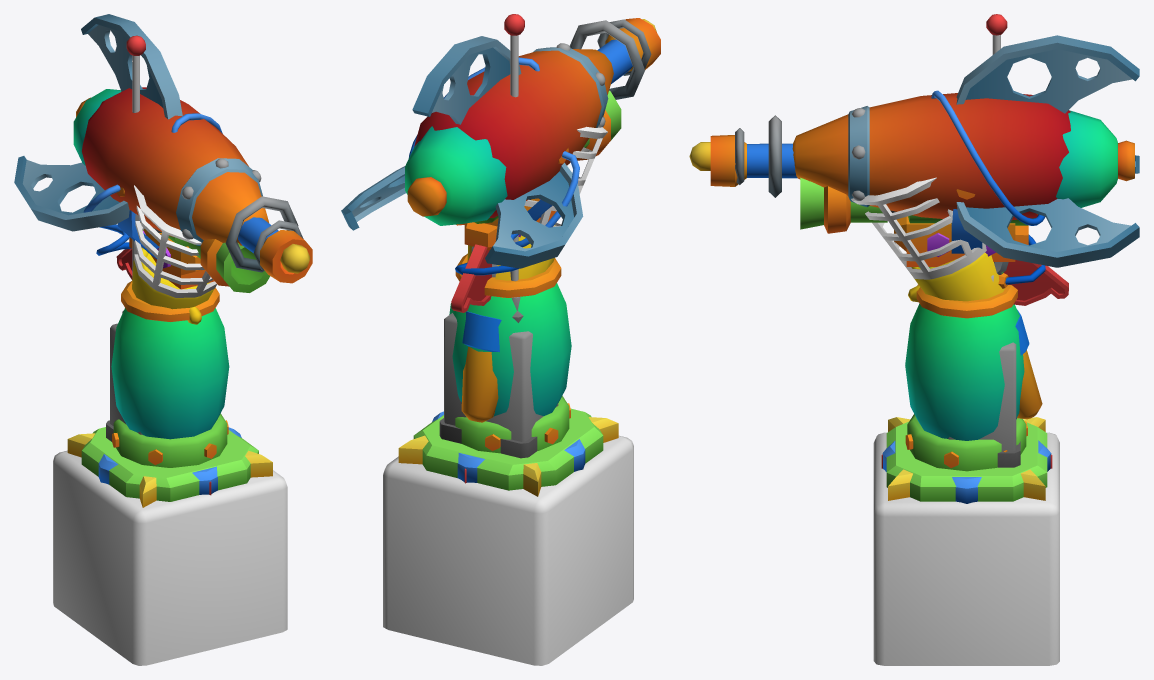
Rendered from buildings.glb.
3 views of the same model, side by side, from view 1: azimuth 30°, elevation 25°; view 2: azimuth 150°, elevation 25°; view 3: azimuth 270°, elevation 25° (orthographic). The views are drawn at different scales.
Visible parts, largest first — view 1: tile, Lasercannon, Base4, Signalbeacon, Shooter, Watergun, Turntable1, Cannon, Base3, Turntable4; view 2: tile, Lasercannon, Signalbeacon, Base4, Watergun, Shooter, Turntable1, Cannon, Base3, Trigger, Turntable4; view 3: Lasercannon, tile, Base4, Watergun, Signalbeacon, Shooter, Cannon, Turntable1, Trigger, Base3, Turntable4.
Part boxes in pixels (x1,y1,x2,y2): tile: [53, 450, 287, 665]; Lasercannon: [14, 14, 310, 273]; Base4: [98, 281, 241, 494]; Signalbeacon: [81, 35, 258, 501]; Shooter: [132, 185, 217, 324]; Watergun: [73, 89, 312, 283]; Turntable1: [112, 413, 228, 467]; Cannon: [129, 222, 270, 292]; Base3: [67, 433, 272, 507]; Turntable4: [83, 184, 159, 258]; tile: [383, 435, 633, 665]; Lasercannon: [341, 19, 656, 268]; Signalbeacon: [413, 14, 603, 490]; Base4: [432, 254, 585, 482]; Watergun: [405, 18, 660, 225]; Shooter: [461, 125, 607, 422]; Turntable1: [455, 396, 570, 453]; Cannon: [456, 90, 621, 250]; Base3: [398, 417, 618, 496]; Trigger: [451, 244, 491, 312]; Turntable4: [455, 148, 579, 277]; Lasercannon: [689, 35, 1139, 274]; tile: [873, 432, 1059, 665]; Base4: [882, 284, 1051, 503]; Watergun: [710, 90, 1134, 225]; Signalbeacon: [886, 14, 1047, 501]; Shooter: [851, 177, 1042, 419]; Cannon: [800, 177, 1035, 273]; Turntable1: [905, 414, 1027, 471]; Trigger: [1004, 260, 1068, 305]; Base3: [888, 417, 1045, 500]; Turntable4: [951, 189, 1045, 288].
Bounding box in the file's own units: 1.25 × 3.56 × 2.42.
3 materials, 2 textured.
